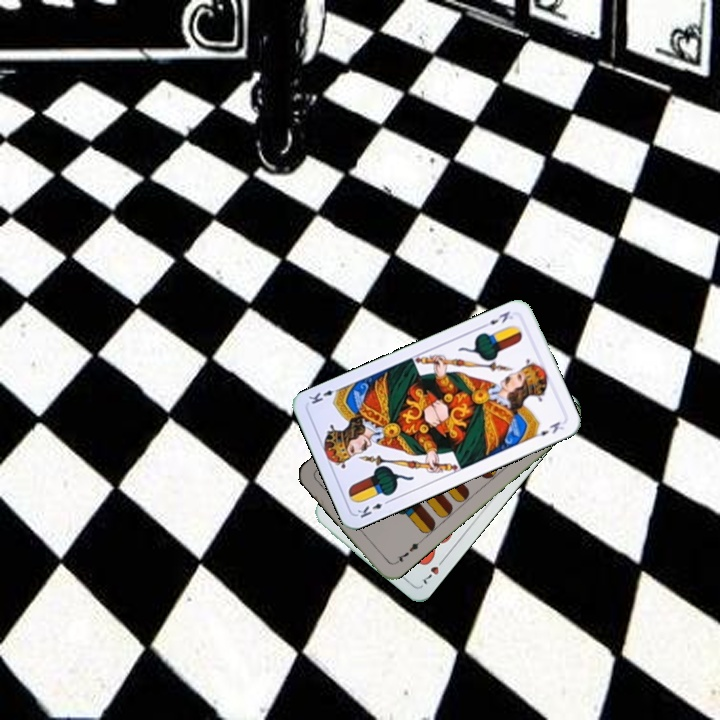E7: (390, 537, 424, 567)
EK: (353, 495, 393, 521), (478, 307, 515, 330)
H7: (417, 554, 448, 587)
